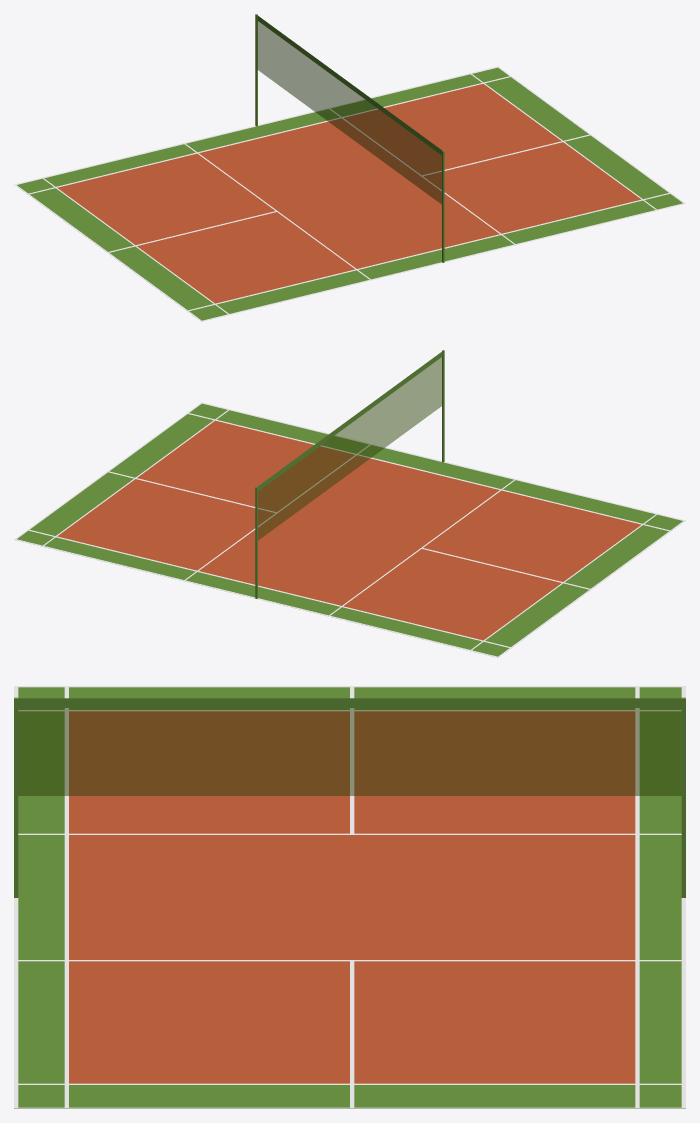
File: paiqiuchang1.fbx
The picture shows the model from 3 angles, top to bottom: view 1: azimuth 30°, elevation 25°; view 2: azimuth 150°, elevation 25°; view 3: azimuth 270°, elevation 25°; orthographic projection. The views are drawn at different scales.
Parts seen in each view (by area): view 1: Group1; view 2: Group1; view 3: Group1.
Part boxes in pixels (left/top/right/bottom): Group1: left=14, top=14, right=685, bottom=321; Group1: left=14, top=350, right=685, bottom=657; Group1: left=14, top=686, right=685, bottom=1108.
Size of the model in its own units: 19.07 by 4.19 by 12.81.
